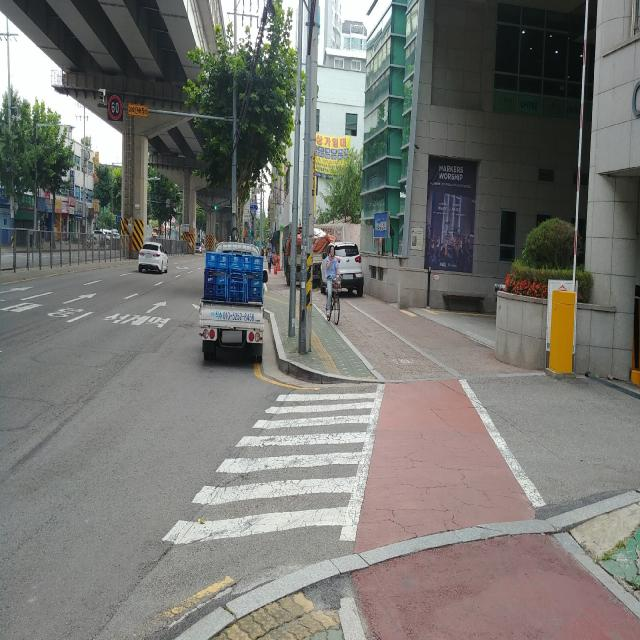횡단보도: (162, 393, 376, 544)
